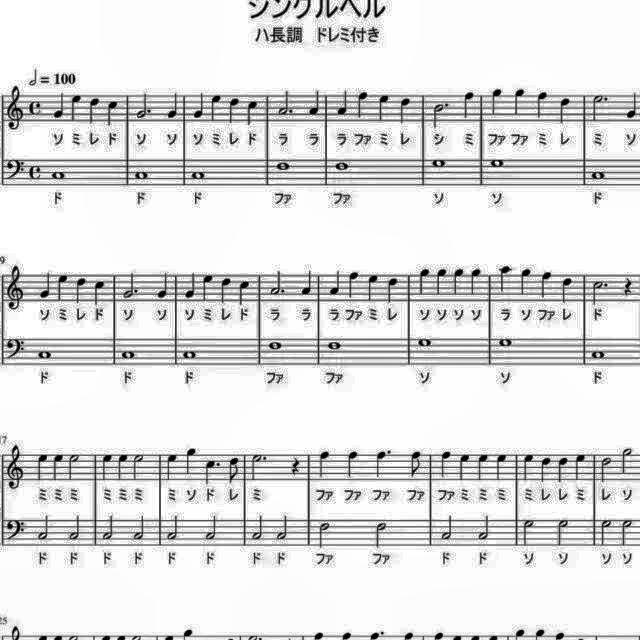Bass-clef: (4, 516, 28, 548), (4, 335, 28, 365), (4, 156, 26, 184)
Eighth-note: (406, 446, 426, 479), (224, 454, 242, 484)
Full-note: (33, 346, 55, 362), (487, 156, 508, 172), (588, 346, 608, 362), (588, 168, 608, 184), (179, 346, 199, 362), (430, 156, 450, 172), (324, 338, 344, 354), (266, 338, 286, 354), (334, 159, 354, 175), (50, 168, 70, 184), (274, 160, 294, 176), (119, 346, 138, 362), (496, 336, 514, 352), (416, 336, 434, 352), (132, 168, 152, 182), (188, 169, 208, 183)
Half-dot: (588, 90, 612, 124), (429, 98, 451, 130), (121, 268, 143, 300), (276, 88, 298, 120), (589, 276, 611, 306), (250, 448, 270, 480), (268, 268, 288, 300), (134, 88, 154, 120)
Half-note: (618, 443, 638, 479), (372, 516, 392, 550), (248, 511, 268, 544), (521, 516, 539, 548), (619, 516, 637, 548), (554, 520, 572, 552), (317, 521, 335, 553), (203, 514, 221, 546), (597, 452, 615, 484), (476, 512, 494, 542), (439, 512, 457, 542), (66, 515, 84, 545), (598, 516, 614, 548), (66, 453, 82, 485), (99, 514, 115, 546), (163, 516, 180, 546), (36, 512, 52, 542), (274, 512, 290, 542), (132, 515, 148, 545), (132, 454, 148, 484)
Quarter-dot: (371, 446, 394, 480), (202, 455, 222, 485)
Quarter-note: (314, 448, 334, 480), (495, 262, 513, 296), (343, 448, 362, 480), (375, 92, 393, 125), (208, 92, 225, 126), (511, 86, 529, 118), (395, 94, 413, 126), (487, 86, 505, 118), (383, 274, 401, 306), (492, 450, 510, 482), (532, 90, 550, 122), (475, 450, 493, 482), (557, 273, 575, 305), (459, 90, 477, 122), (536, 270, 554, 302), (556, 94, 574, 126), (465, 266, 483, 298), (623, 88, 640, 121), (223, 94, 240, 126), (364, 272, 381, 304), (449, 266, 466, 298), (354, 90, 371, 122), (200, 272, 217, 304), (236, 277, 254, 307), (243, 98, 261, 128), (163, 451, 180, 482), (72, 274, 88, 306), (104, 96, 120, 128), (456, 450, 472, 482), (572, 450, 588, 482), (190, 90, 206, 122), (217, 274, 233, 306), (86, 94, 102, 126), (336, 85, 352, 117), (36, 269, 52, 301), (536, 452, 552, 484), (306, 86, 322, 118), (416, 266, 432, 298), (50, 450, 66, 482), (33, 450, 49, 482), (518, 266, 534, 298), (432, 266, 448, 298), (114, 450, 130, 482), (438, 448, 454, 480), (346, 269, 362, 301), (56, 272, 72, 304), (182, 446, 198, 478), (98, 450, 114, 482), (68, 92, 84, 124), (555, 452, 571, 483), (520, 451, 536, 482), (163, 89, 179, 119), (52, 91, 68, 121), (92, 277, 108, 307), (153, 271, 169, 301), (326, 268, 342, 298), (300, 268, 316, 298), (182, 274, 196, 302), (639, 88, 640, 121)
Quarter-rest: (287, 452, 303, 478), (620, 273, 636, 299)
Treble-clef: (4, 442, 26, 493), (4, 263, 26, 313), (3, 83, 25, 133)
